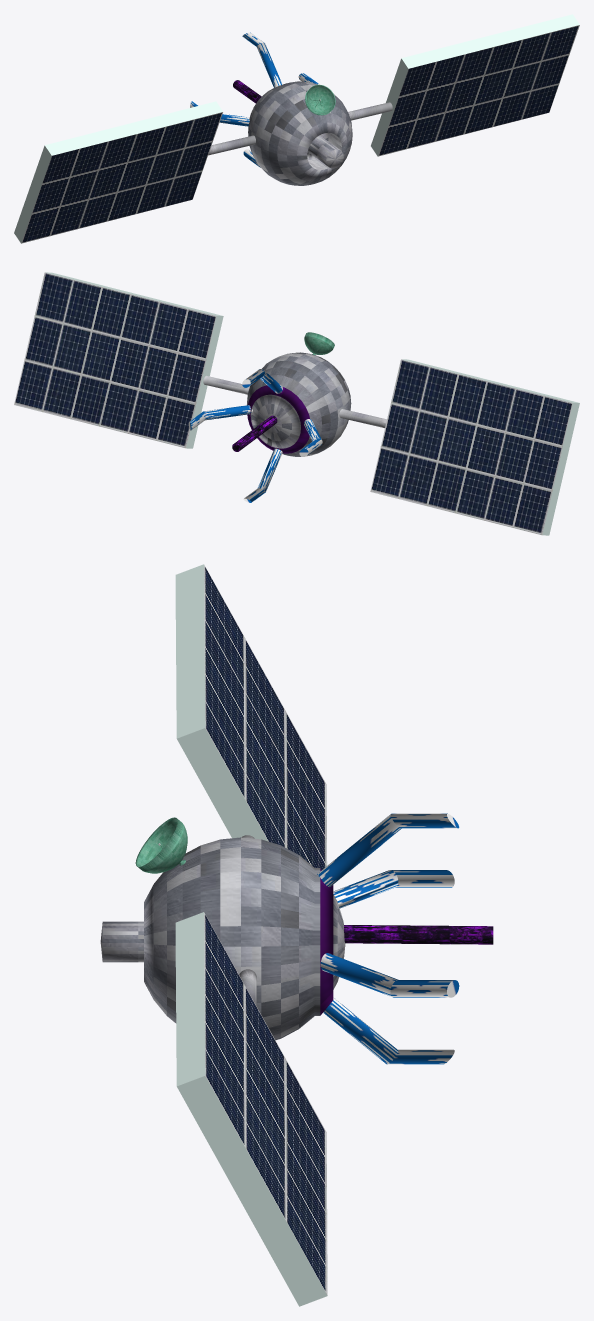
File: sparky.gltf
3 renders of one model, top to bottom at view 1: azimuth 30°, elevation 25°; view 2: azimuth 150°, elevation 25°; view 3: azimuth 270°, elevation 25°, orthographic. The views are drawn at different scales.
Visible parts, largest first — view 1: Cube.003, Cube, Sphere, Cone, Cylinder.002, Cylinder.001, Cylinder.004, Cylinder; view 2: Cube.003, Cube, Sphere, Cylinder.004, Cylinder.002, Cone, Cylinder.003, Cylinder.001, Cylinder; view 3: Cube, Sphere, Cube.003, Cylinder.002, Cylinder.004, Cylinder.003, Cone.
Part boxes in pixels (bbox=[...]): Cube.003: bbox=[14, 101, 222, 243]; Cube: bbox=[371, 14, 579, 156]; Sphere: bbox=[248, 81, 352, 185]; Cone: bbox=[305, 84, 335, 115]; Cylinder.002: bbox=[242, 32, 282, 167]; Cylinder.001: bbox=[208, 135, 255, 155]; Cylinder.004: bbox=[190, 73, 319, 126]; Cylinder: bbox=[348, 102, 392, 120]; Cube.003: bbox=[370, 359, 579, 535]; Cube: bbox=[14, 272, 223, 448]; Sphere: bbox=[247, 352, 351, 456]; Cylinder.004: bbox=[188, 405, 322, 456]; Cylinder.002: bbox=[242, 369, 282, 502]; Cone: bbox=[304, 332, 334, 354]; Cylinder.003: bbox=[232, 415, 277, 451]; Cylinder.001: bbox=[339, 409, 386, 428]; Cylinder: bbox=[203, 375, 249, 394]; Cube: bbox=[175, 912, 327, 1306]; Sphere: bbox=[100, 837, 345, 1040]; Cube.003: bbox=[175, 564, 327, 869]; Cylinder.002: bbox=[317, 813, 459, 1064]; Cylinder.004: bbox=[320, 870, 459, 997]; Cylinder.003: bbox=[344, 925, 493, 944]; Cone: bbox=[135, 817, 187, 873].
Size of the model in its own units: 16.82 by 3.78 by 5.42.
Materials: 13 (13 with a texture image).
